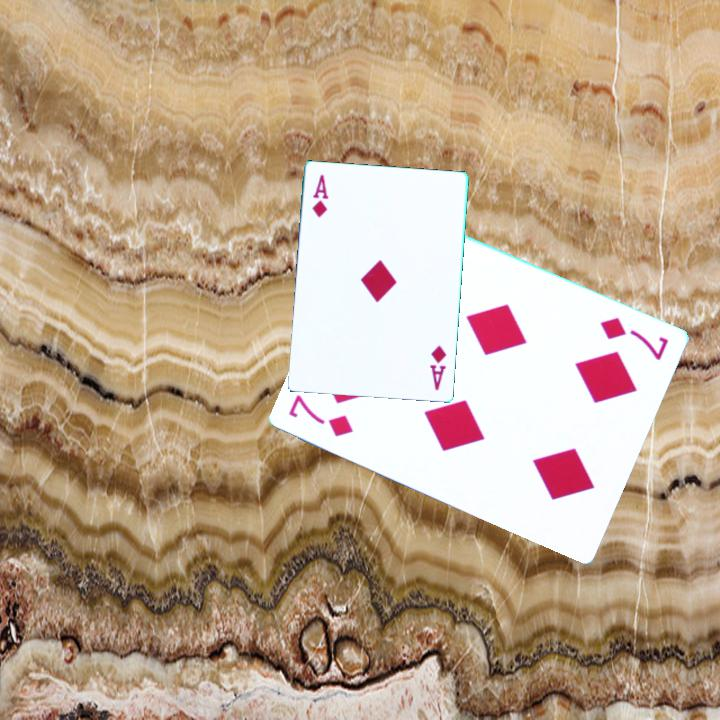7d: (597, 313, 673, 363), (285, 392, 357, 440)
Ad: (427, 342, 449, 394), (309, 171, 331, 221)
